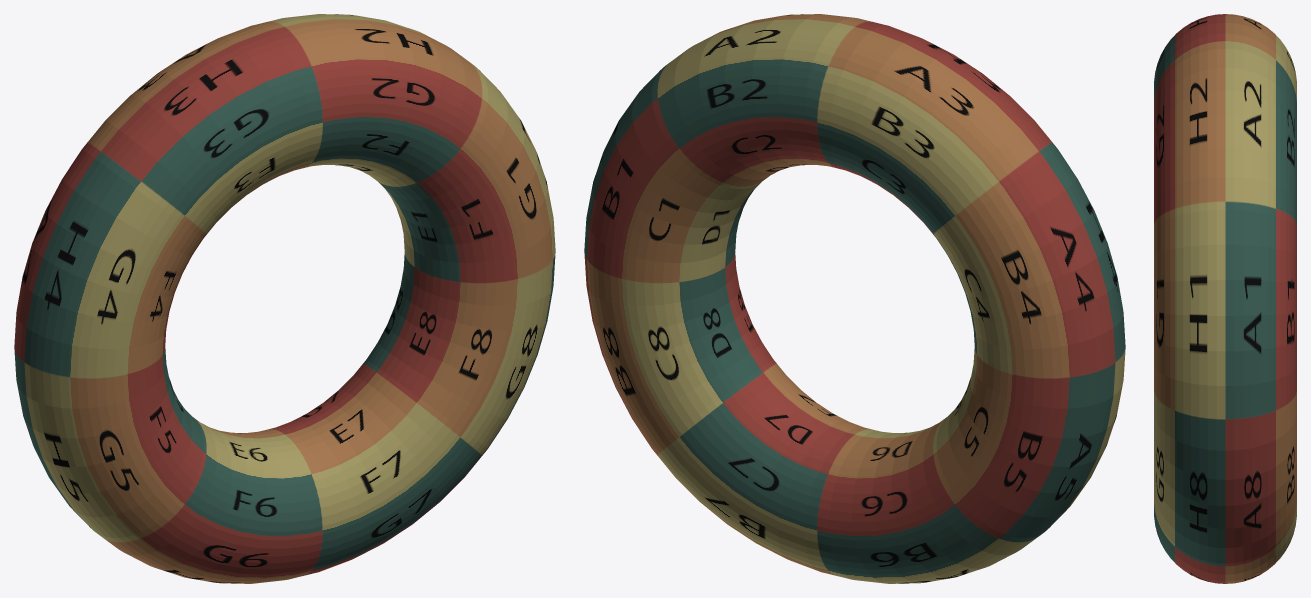
Rendered from texture_torus_R25_r26.glb.
3 views of the same model, side by side, from view 1: azimuth 30°, elevation 25°; view 2: azimuth 150°, elevation 25°; view 3: azimuth 270°, elevation 25° (orthographic). The views are drawn at different scales.
Visible parts, largest first — view 1: world; view 2: world; view 3: world.
Boxes of the visible parts, box(x1,y1,x2,y2) form: world: box(14, 14, 555, 583); world: box(584, 14, 1125, 583); world: box(1154, 14, 1296, 583).
Size of the model in its own units: 35.6 by 35.53 by 8.92.
Materials: 1 (1 with a texture image).
